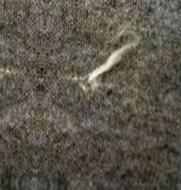snag: (73, 31, 144, 94)
